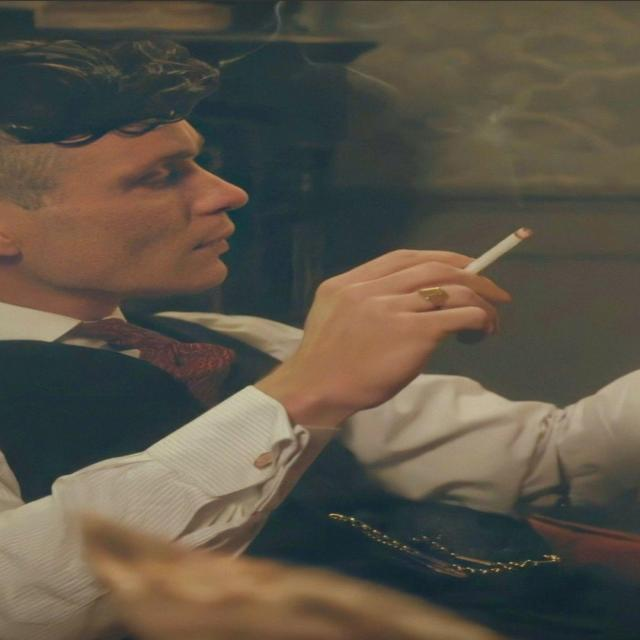cigarette: (458, 202, 547, 286)
